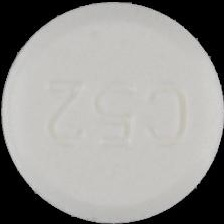55289-464: (0, 0, 224, 224)
